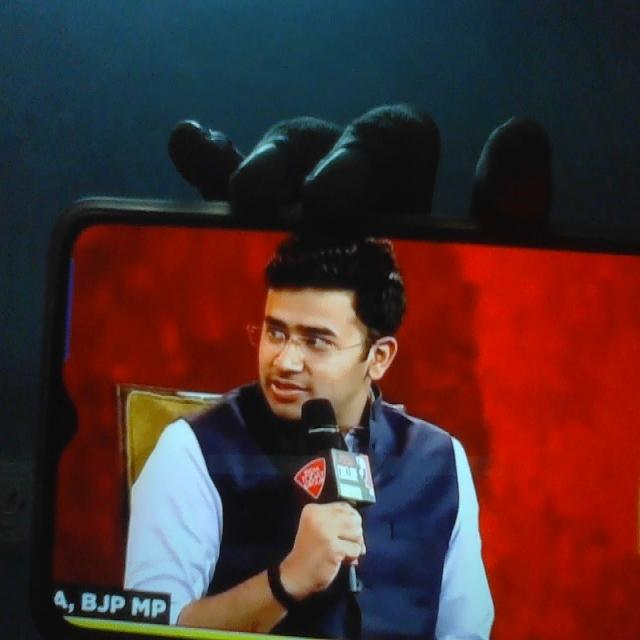fake: (242, 218, 369, 458)
